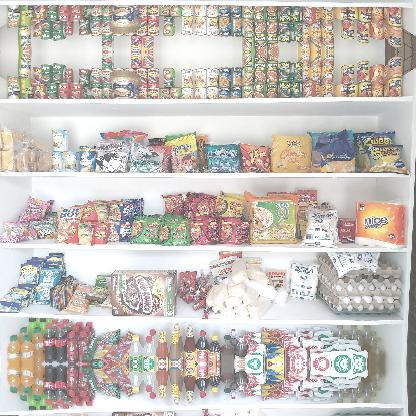Koko-Krunch: (110, 268, 178, 316)
Lady-s-Choice: (108, 68, 142, 100), (108, 4, 142, 36)
